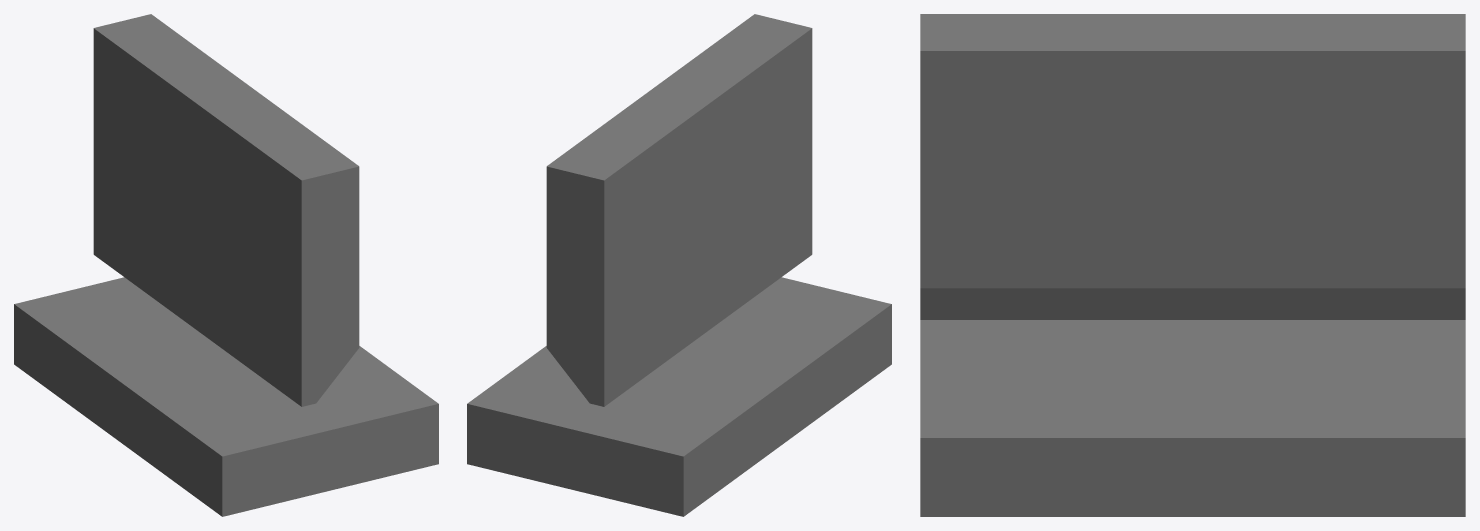
The model's file is Т7_Кромки.glb.
3 renders of one model, left to right at view 1: azimuth 30°, elevation 25°; view 2: azimuth 150°, elevation 25°; view 3: azimuth 270°, elevation 25°, orthographic. The views are drawn at different scales.
Parts seen in each view (by area): view 1: node_id3; view 2: node_id3; view 3: node_id3.
Part boxes in pixels (x1,y1,x2,y2): node_id3: [14, 14, 438, 516]; node_id3: [467, 14, 891, 516]; node_id3: [920, 14, 1465, 516].
Size of the model in its own units: 0.3657 by 0.512 by 0.6095.
Materials: 1 (1 with a texture image).
